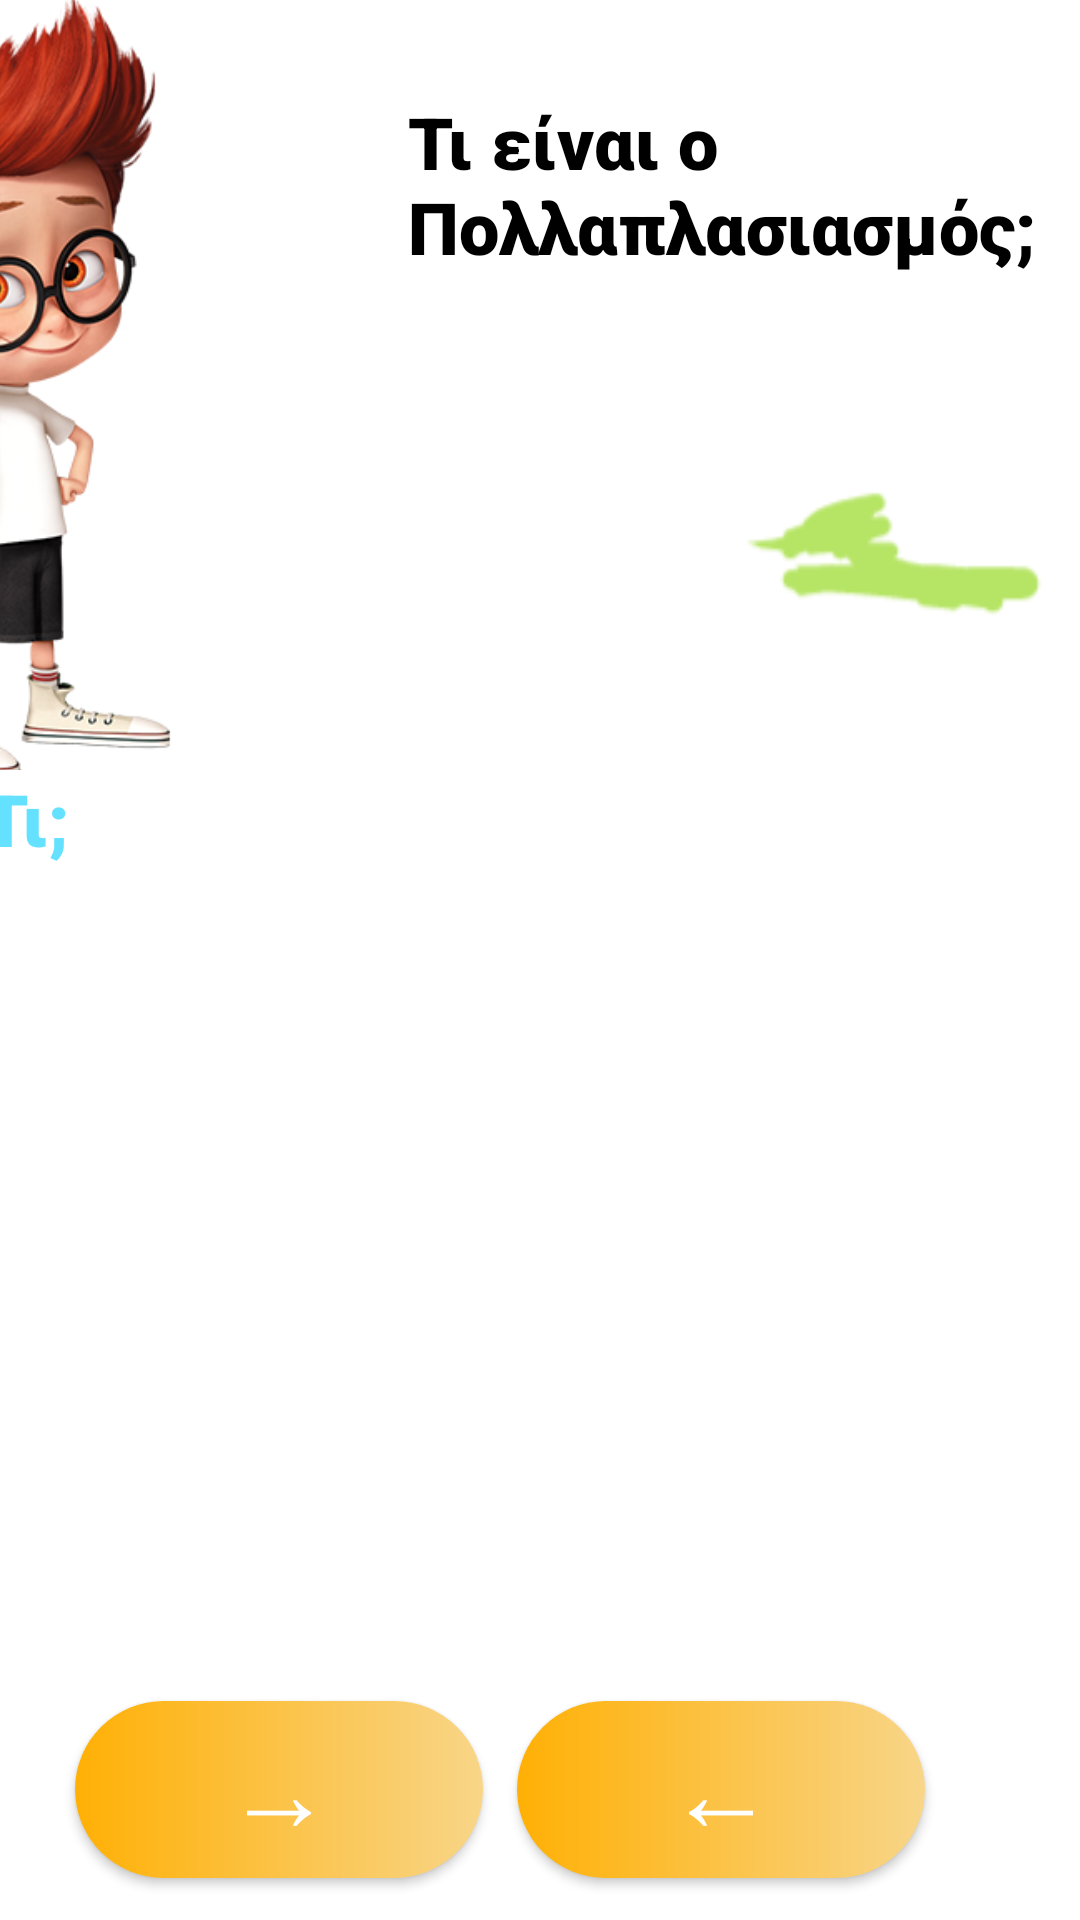

Named icons in this screenshot (1080x1920) and their centers, [x,y]:
prasino: [894,553]
